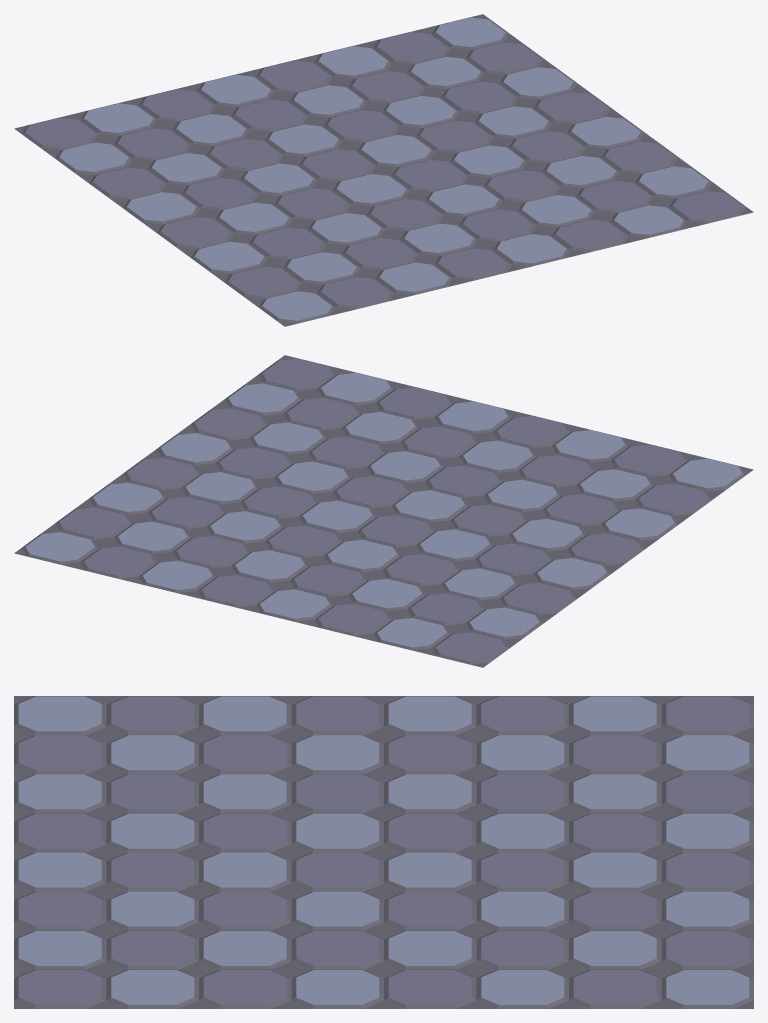
The model's file is floor2_big.fbx.
The picture shows the model from 3 angles, top to bottom: view 1: azimuth 30°, elevation 25°; view 2: azimuth 150°, elevation 25°; view 3: azimuth 270°, elevation 25°; orthographic projection. The views are drawn at different scales.
Parts seen in each view (by area): view 1: floor2_big; view 2: floor2_big; view 3: floor2_big.
Boxes of the visible parts, x1,y1,x2,y2 form: floor2_big: (14, 14, 753, 326); floor2_big: (14, 355, 753, 667); floor2_big: (14, 696, 753, 1008).
Size of the model in its own units: 600 by 1.68 by 600.
